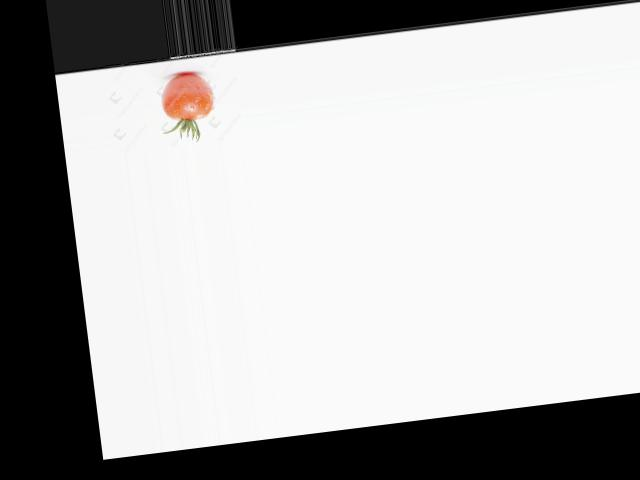tomato: (157, 70, 215, 122)
